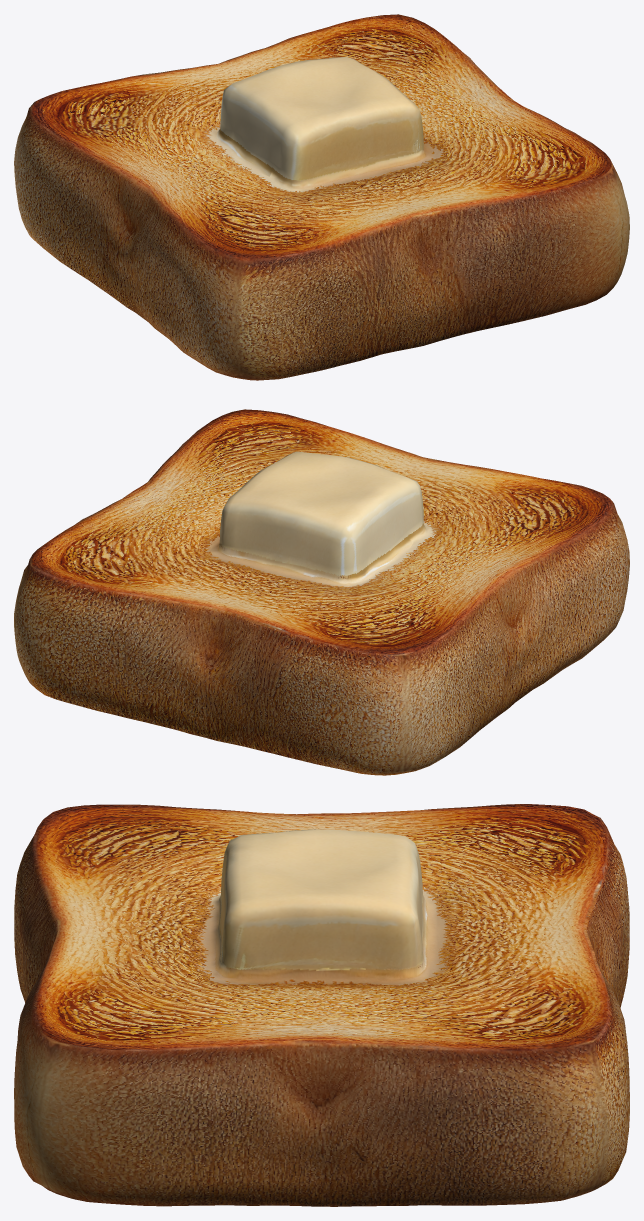
The model's file is butter.fbx.
The picture shows the model from 3 angles, top to bottom: view 1: azimuth 30°, elevation 25°; view 2: azimuth 150°, elevation 25°; view 3: azimuth 270°, elevation 25°; orthographic projection. The views are drawn at different scales.
Visible parts, largest first — view 1: texture_mapping; view 2: texture_mapping; view 3: texture_mapping.
Part boxes in pixels (<box>): texture_mapping: <box>14,14,629,380</box>; texture_mapping: <box>14,409,629,775</box>; texture_mapping: <box>14,804,629,1206</box>.
Size of the model in its own units: 0.9997 by 0.998 by 0.4306.
1 material, 1 textured.
